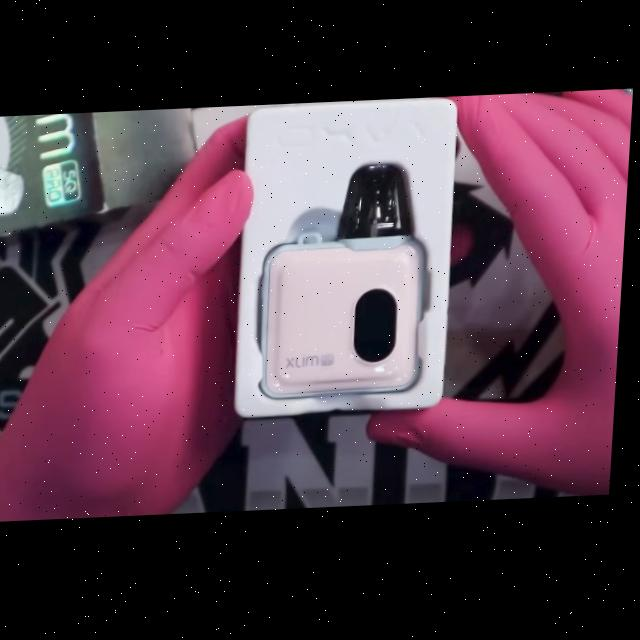vape: (261, 165, 434, 404)
